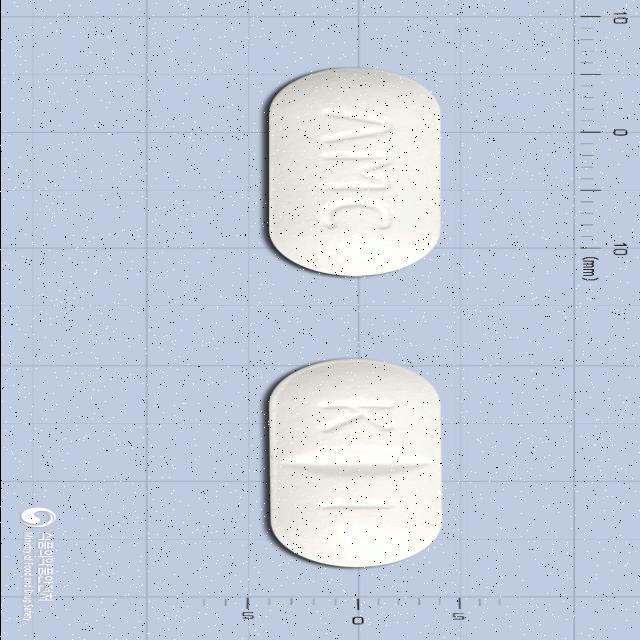Amocla Duo: (260, 66, 443, 278), (264, 358, 441, 568)
